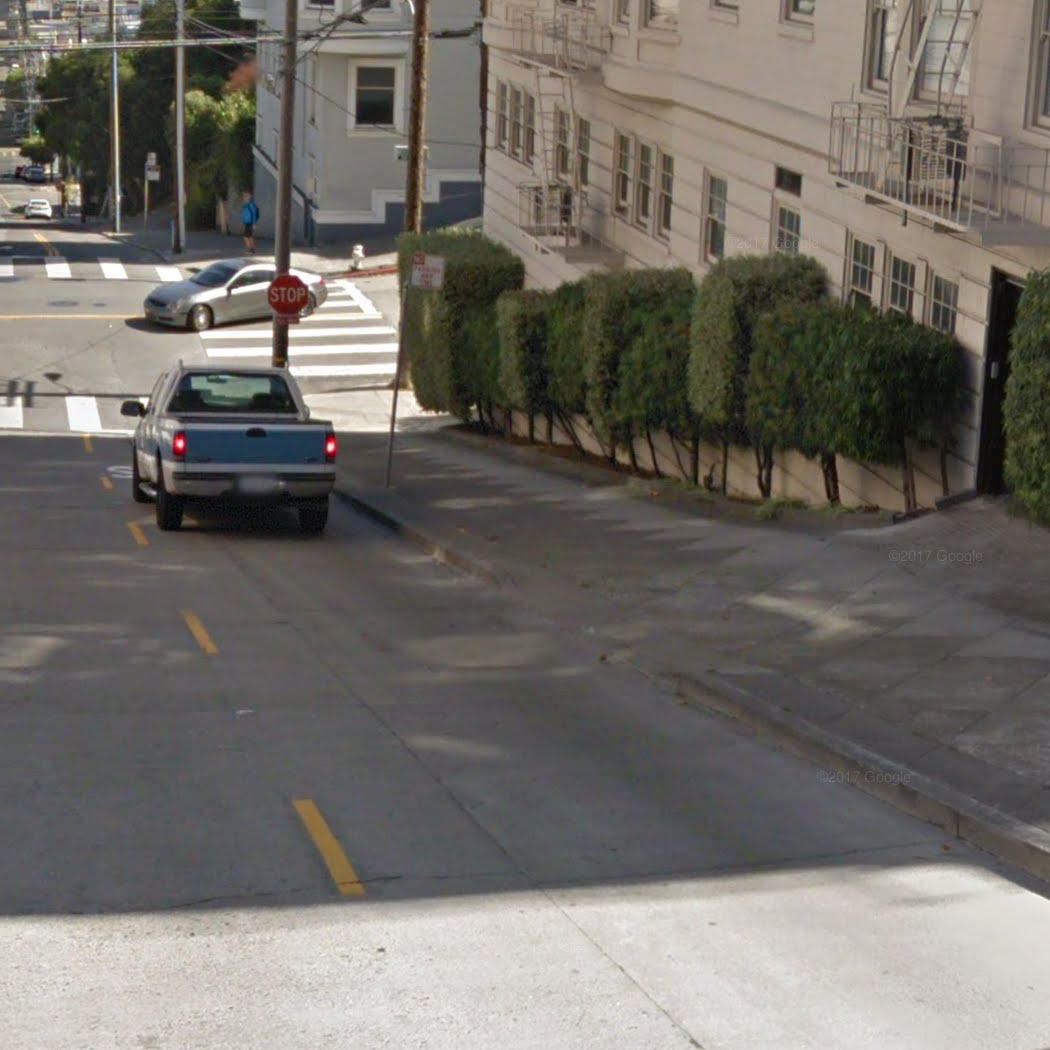No Parking Anytime: (409, 254, 447, 289)
